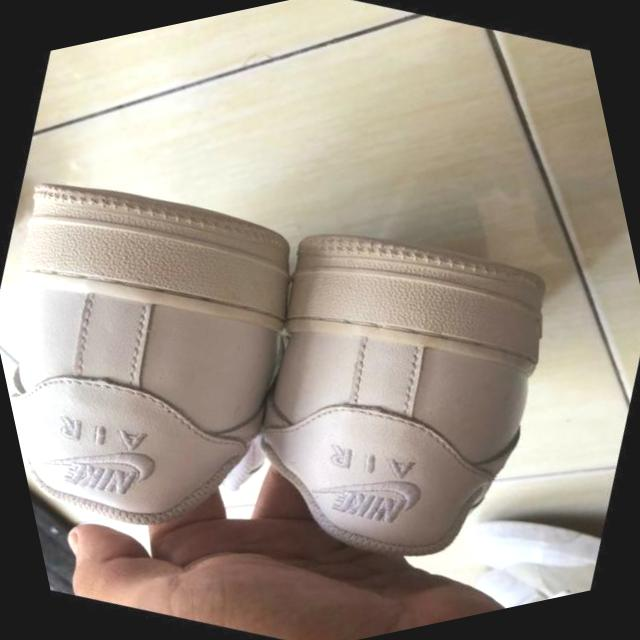nike_fake_airforce: (0, 109, 430, 640), (166, 173, 627, 640)
